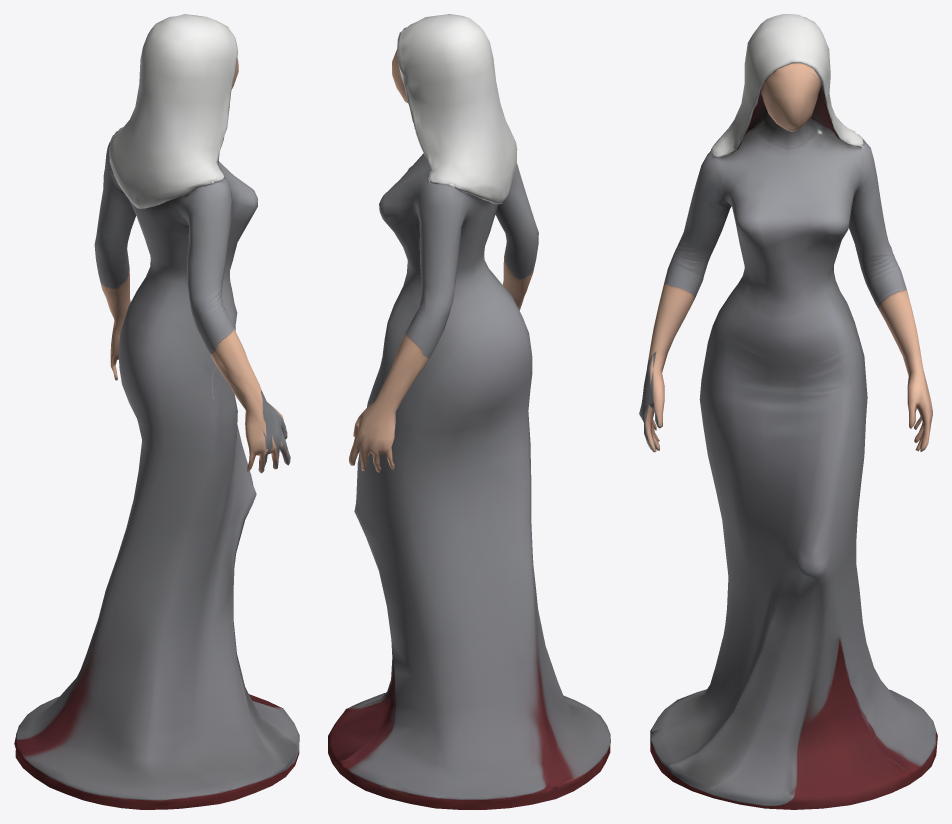
Rendered from min9t.glb.
3 views of the same model, side by side, from view 1: azimuth 30°, elevation 25°; view 2: azimuth 150°, elevation 25°; view 3: azimuth 270°, elevation 25° (orthographic). The views are drawn at different scales.
Parts seen in each view (by area): view 1: Model; view 2: Model; view 3: Model.
Boxes of the visible parts, x1,y1,x2,y2 form: Model: (14, 14, 299, 809); Model: (328, 14, 610, 809); Model: (639, 14, 937, 809).
Size of the model in its own units: 0.3535 by 0.998 by 0.3652.
1 material, 1 textured.
